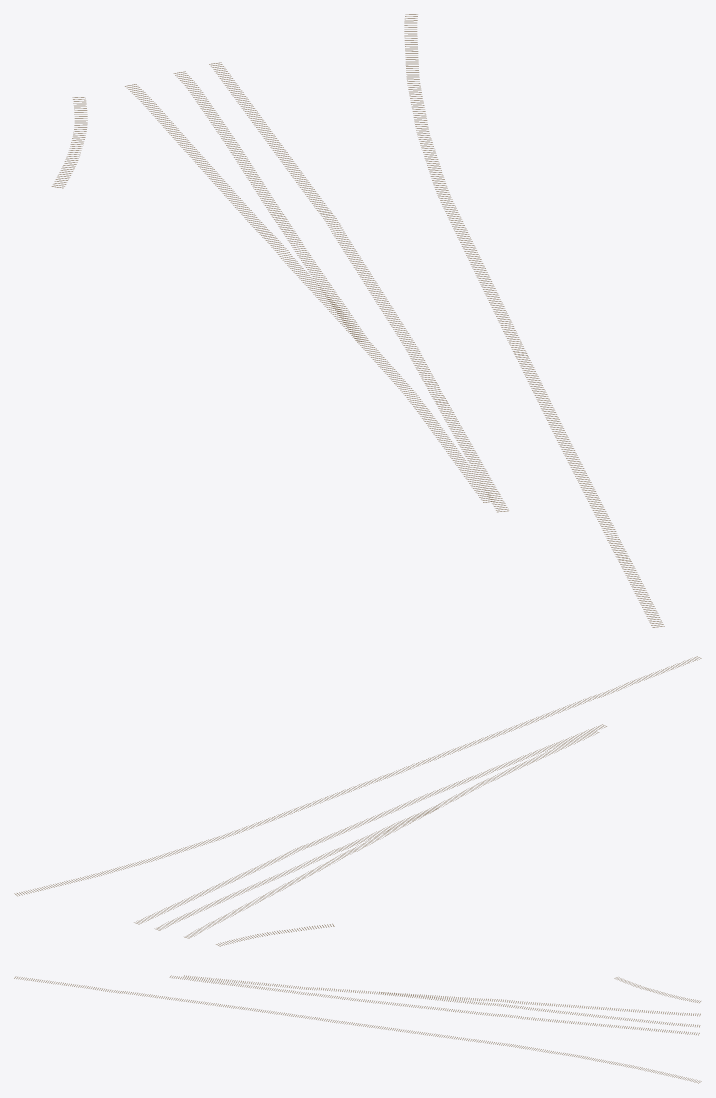
The model's file is c_1630_17831_rail_sleeper.glb.
3 views of the same model, one above another, from view 1: azimuth 30°, elevation 25°; view 2: azimuth 150°, elevation 25°; view 3: azimuth 270°, elevation 25° (orthographic). The views are drawn at different scales.
Visible parts, largest first — view 1: geometry_0; view 2: geometry_0; view 3: geometry_0.
Boxes of the visible parts, x1,y1,x2,y2 form: geometry_0: [51, 14, 664, 627]; geometry_0: [14, 656, 701, 946]; geometry_0: [14, 975, 701, 1083].
Size of the model in its own units: 95.52 by 1.04 by 253.
